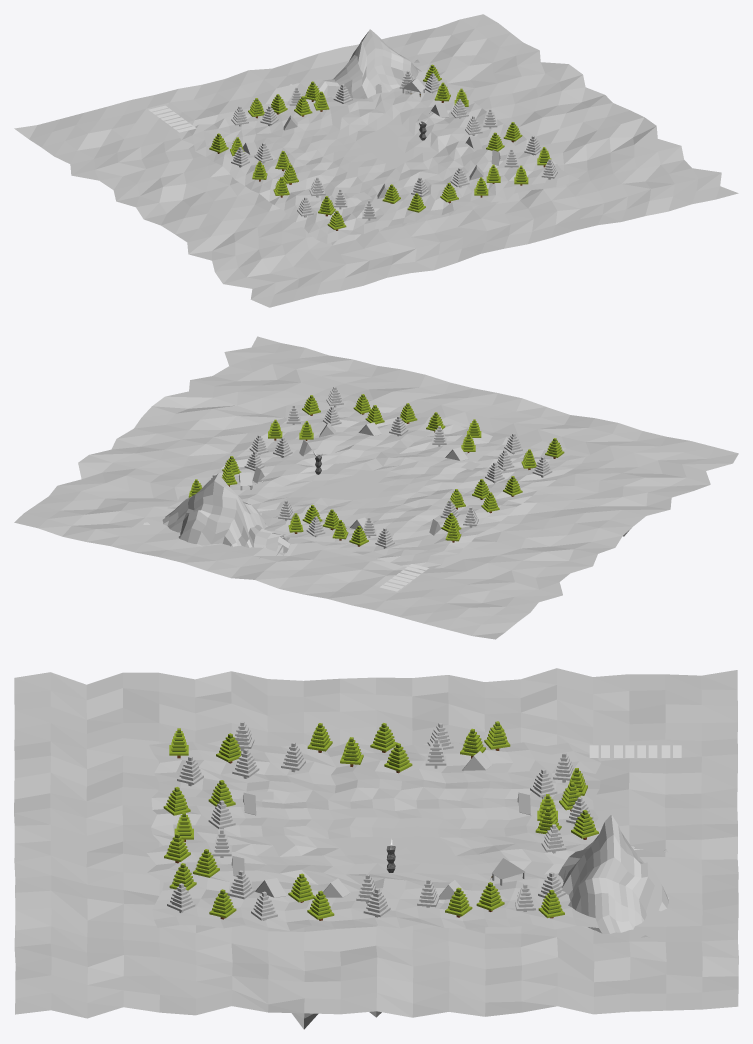
The model's file is Scenery1.FBX.
The picture shows the model from 3 angles, top to bottom: view 1: azimuth 30°, elevation 25°; view 2: azimuth 150°, elevation 25°; view 3: azimuth 270°, elevation 25°; orthographic projection. The views are drawn at different scales.
Visible parts, largest first — view 1: Plane004, Plane016, Plane017; view 2: Plane004, Plane016, Plane017; view 3: Plane004, Plane016, Plane017.
Part boxes in pixels (x1,y1,x2,y2): Plane004: [14, 14, 738, 307]; Plane016: [177, 70, 579, 243]; Plane017: [290, 29, 421, 99]; Plane004: [14, 336, 738, 639]; Plane016: [167, 395, 585, 569]; Plane017: [143, 473, 289, 557]; Plane004: [14, 668, 738, 1018]; Plane016: [147, 741, 601, 930]; Plane017: [558, 814, 669, 937].
Size of the model in its own units: 4742 by 932 by 4137.
